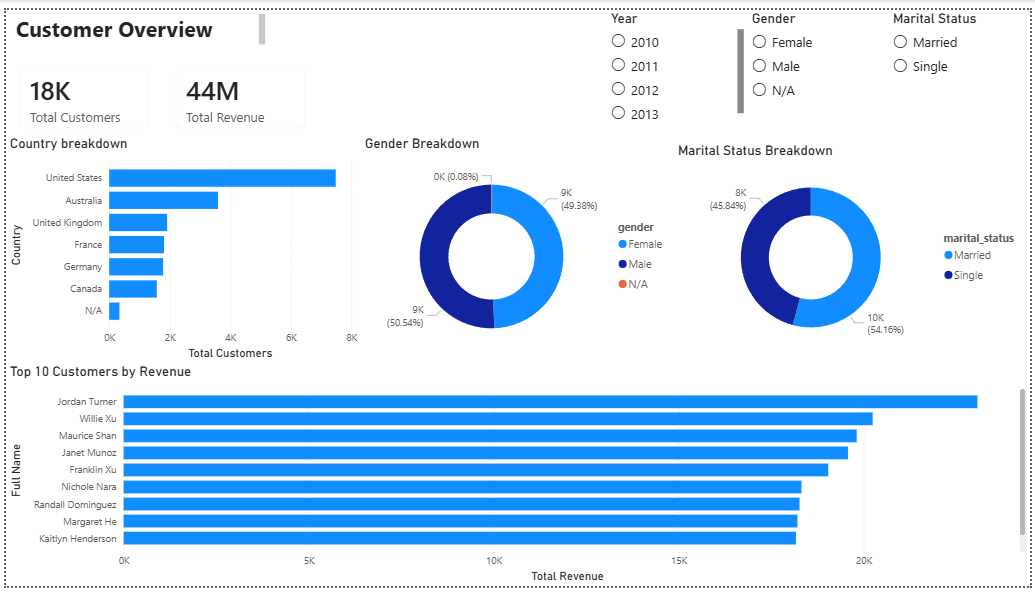

The dashboard page shown, as its layout file describes it:
{"tool":"powerbi","page":{"name":"Customers Insights","canvas":[1280,720],"ordinal":1},"visuals":[{"type":"textbox","box":[0,0,321,60.3],"z":0},{"type":"card","fields":{"Values":["gold fact_sales.Revenue per Customer"]},"box":[677,135.2,321,149.8],"z":1000},{"type":"card","fields":{"Values":["gold fact_sales.Total Customers"]},"box":[194.5,143,321,149.8],"z":2000},{"type":"barChart","title":"Customers by Gender","fields":{"Category":["gold dim_customers.gender"],"Y":["gold fact_sales.Total Customers"]},"box":[0,292.8,362.8,206.2],"z":4000},{"type":"barChart","title":"Customers by Country","fields":{"Category":["gold dim_customers.country"],"Y":["gold fact_sales.Total Customers"]},"box":[0,510.6,362.8,195.5],"z":5000},{"type":"donutChart","title":"Customers by Marital Status","fields":{"Category":["gold dim_customers.marital_status"],"Y":["gold fact_sales.Total Customers"]},"box":[369.6,292.8,451.3,299.6],"z":6000},{"type":"tableEx","title":"Top Customers by Revenue","fields":{"Values":["gold dim_customers.Full Name","gold fact_sales.Total Revenue","gold fact_sales.Total Orders","gold dim_customers.customer_number"]},"box":[820.9,285,442.6,434.8],"z":7000},{"type":"slicer","fields":{"Values":["gold dim_date.Month Year"]},"box":[34,60.3,321,84.6],"z":8000},{"type":"slicer","fields":{"Values":["gold dim_customers.country"]},"box":[441.6,60.3,395.9,84.6],"z":8001},{"type":"slicer","fields":{"Values":["gold dim_customers.gender"]},"box":[919.1,60.3,353.1,68.1],"z":8002}]}

Visuals, with their boxes in screenshot pixels (x1, y1, x2, y2), scaled from the page's 1280x720 canvas onto the 1035x593 screenshot:
textbox: select_region(0, 0, 260, 50)
card - gold fact_sales.Revenue per Customer: select_region(547, 111, 807, 235)
card - gold fact_sales.Total Customers: select_region(157, 118, 417, 241)
"Customers by Gender" barChart: select_region(0, 241, 293, 411)
"Customers by Country" barChart: select_region(0, 421, 293, 582)
"Customers by Marital Status" donutChart: select_region(299, 241, 664, 488)
"Top Customers by Revenue" tableEx: select_region(664, 235, 1022, 592)
slicer - gold dim_date.Month Year: select_region(27, 50, 287, 119)
slicer - gold dim_customers.country: select_region(357, 50, 677, 119)
slicer - gold dim_customers.gender: select_region(743, 50, 1029, 106)
